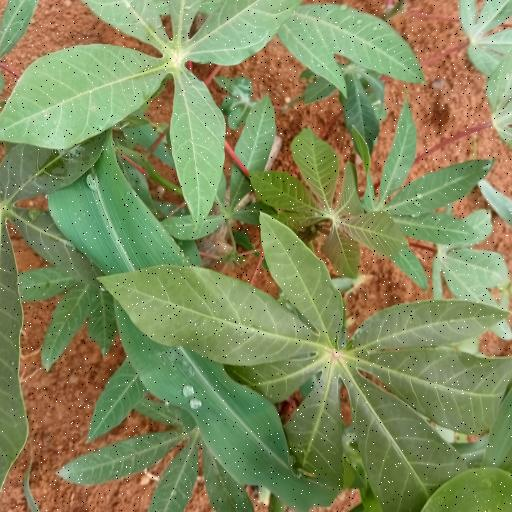Cassava_Mosaic: (131, 220, 512, 499), (251, 130, 407, 261)
